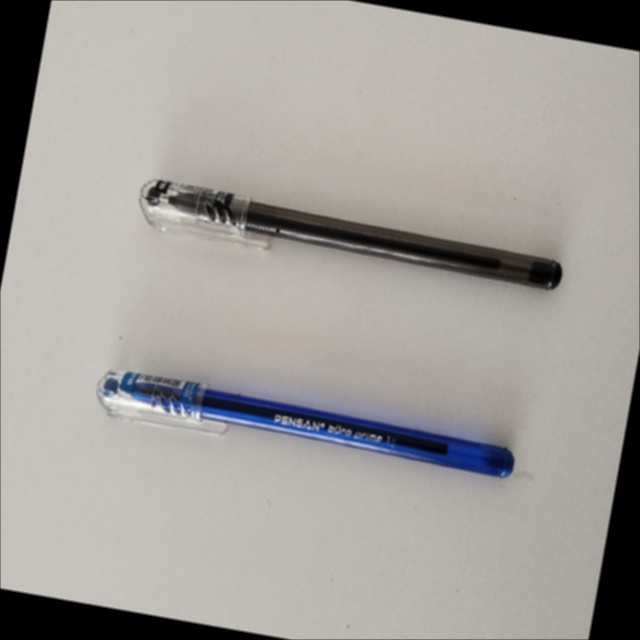pensan_mavi_tukenmez_kalem: (97, 370, 513, 476)
pensan_siyah_tukenmez_kalem: (139, 180, 558, 289)
